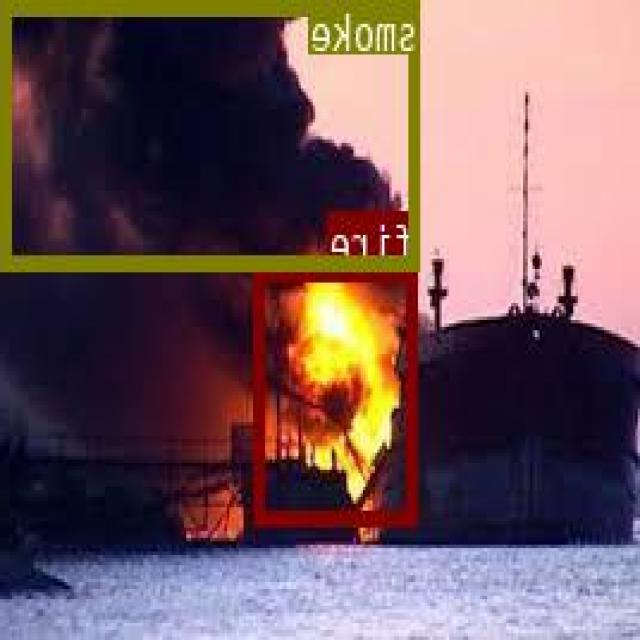fire: (257, 262, 418, 522)
smoke: (5, 0, 420, 266)
